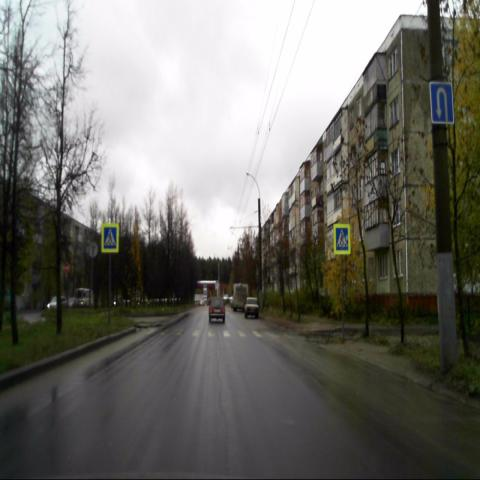6_3_1: (429, 80, 455, 125)
